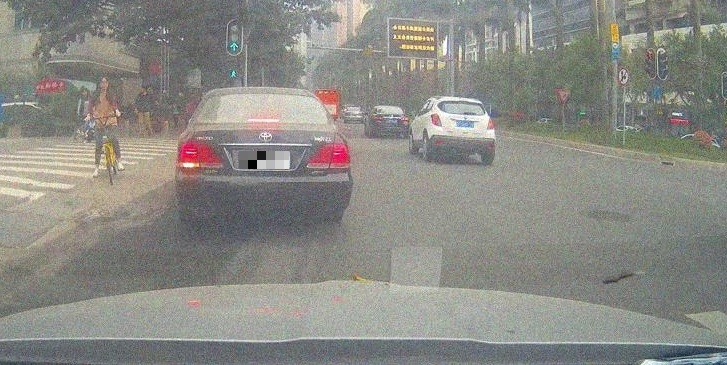L_light: (178, 142, 222, 168), (431, 112, 442, 128), (372, 116, 381, 120)
R_light: (306, 142, 351, 169), (486, 117, 494, 130), (400, 116, 409, 121)
T_light: (249, 118, 279, 123), (457, 101, 469, 104), (386, 107, 392, 108)
day-brake: (176, 87, 353, 221)
day-no: (430, 97, 496, 165), (371, 106, 410, 139)
plate_1: (239, 151, 289, 169)
